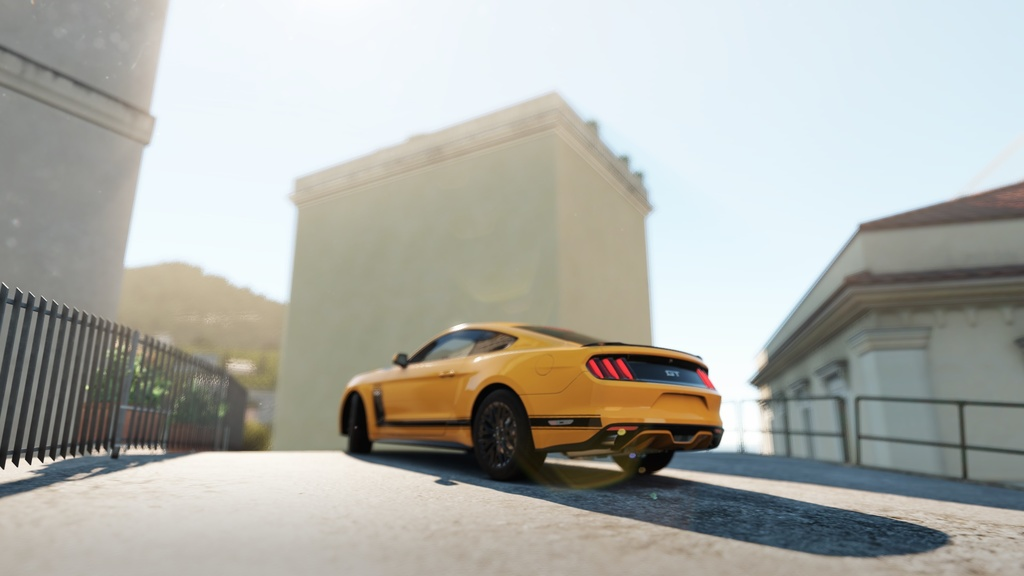Car: (338, 320, 721, 483)
